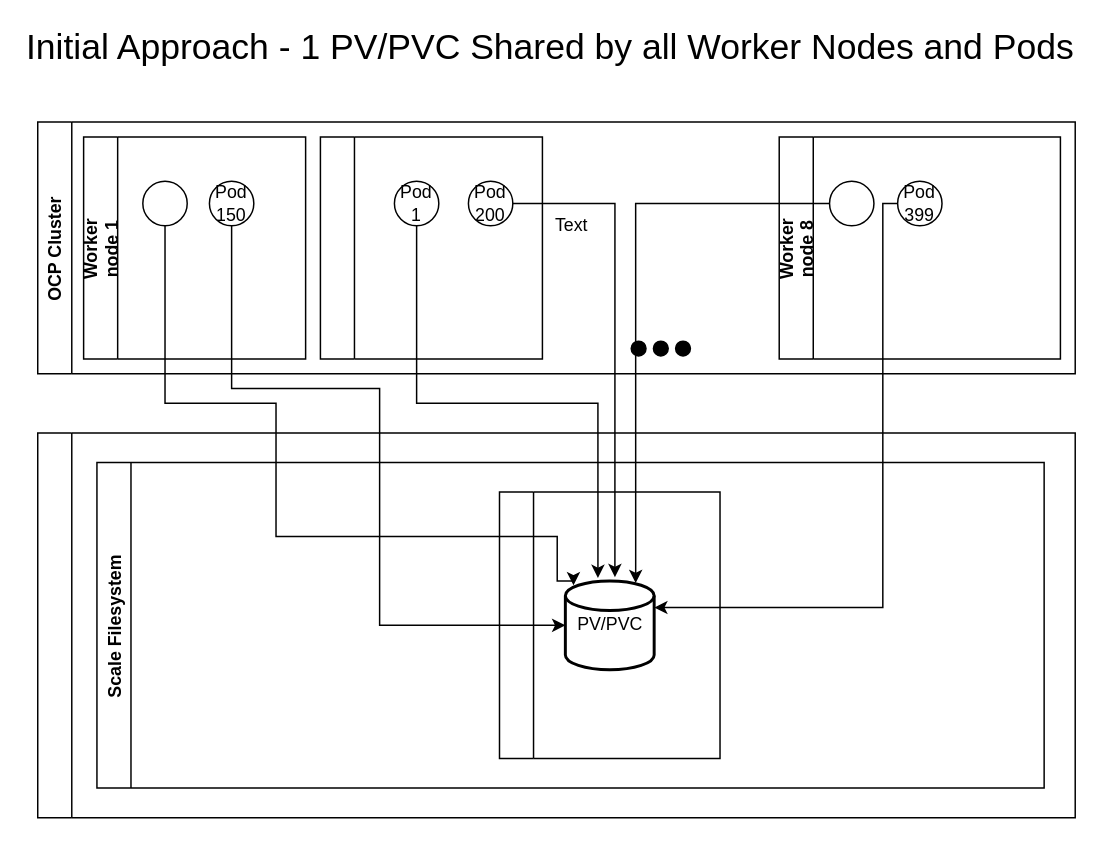
The diagram is 1101 pixels wide and 844 high, and some of its shapes have lost their labels. Here are the shapes that lost their labels. From the top down, the box of each, then its label:
(141, 180, 187, 226): Pod 2
(828, 180, 874, 226): Pod 3
(319, 135, 542, 359): Worker node 2
(36, 431, 1075, 818): ESS 3200
(498, 491, 720, 758): Fileset
